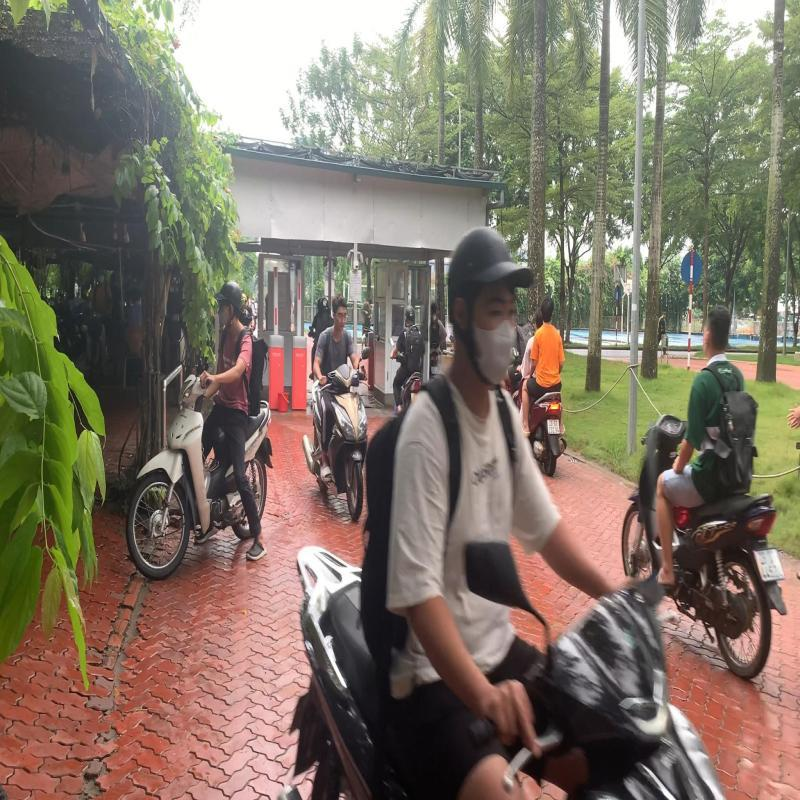nohelmet: (540, 294, 555, 324), (534, 307, 543, 328)
